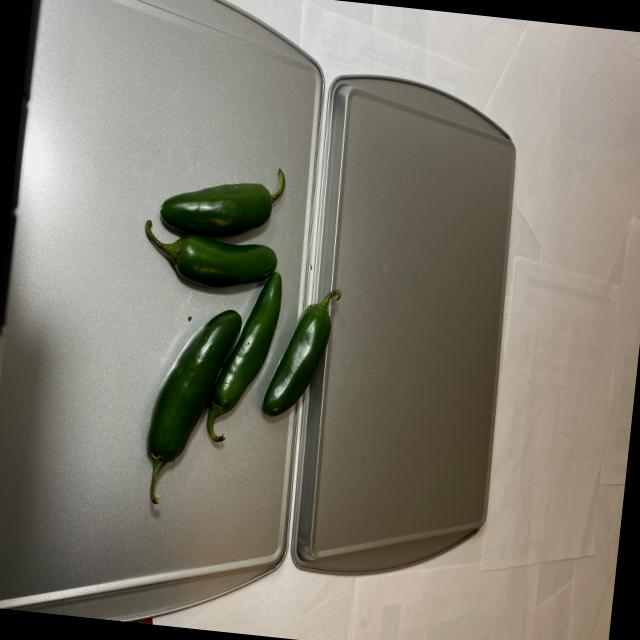chilli: (110, 126, 364, 532)
